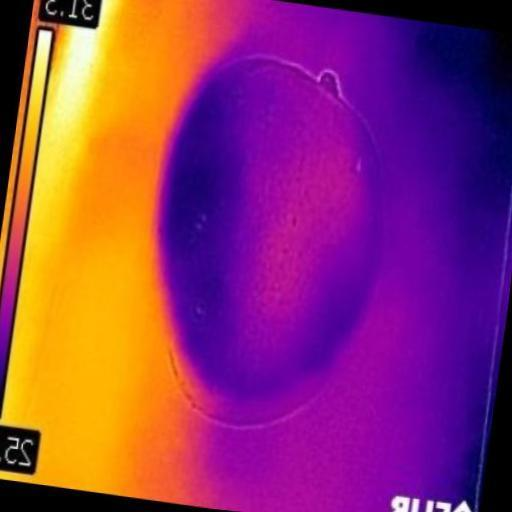alphanso: (160, 56, 379, 425)
